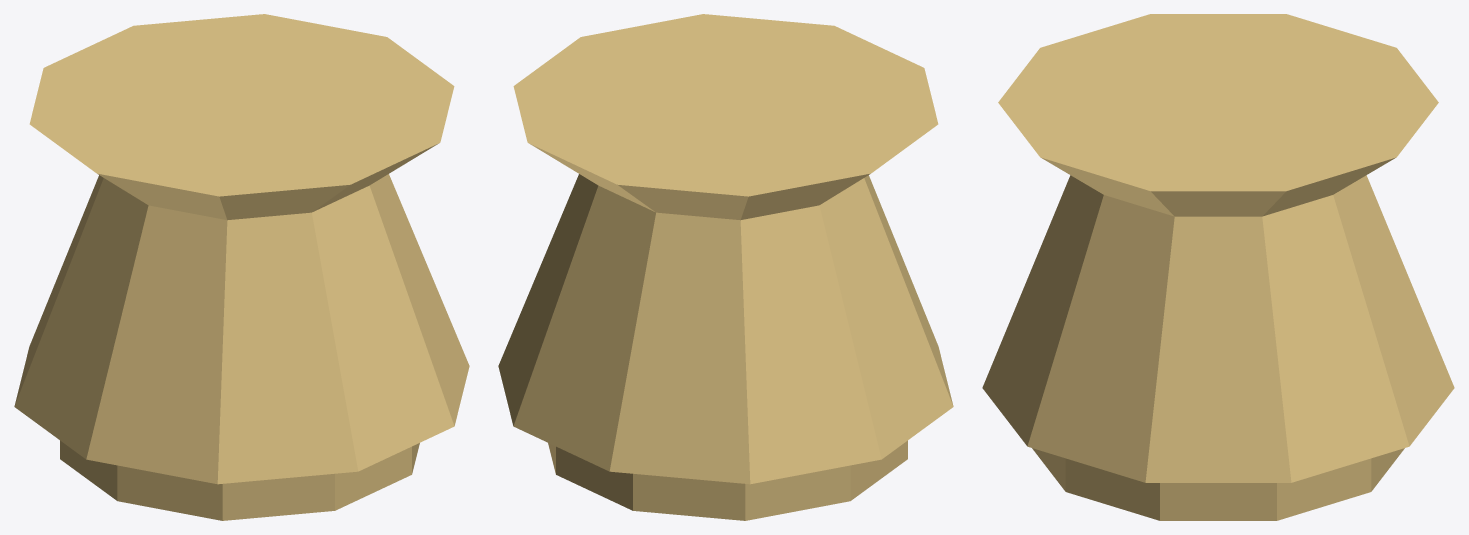
The model's file is SM_Spittoon.glb.
The picture shows the model from 3 angles, left to right: view 1: azimuth 30°, elevation 25°; view 2: azimuth 150°, elevation 25°; view 3: azimuth 270°, elevation 25°; orthographic projection.
Visible parts, largest first — view 1: SM_Spittoon; view 2: SM_Spittoon; view 3: SM_Spittoon.
Part boxes in pixels (x1,y1,x2,y2): SM_Spittoon: (14, 14, 469, 520); SM_Spittoon: (498, 14, 953, 520); SM_Spittoon: (982, 14, 1454, 520).
Bounding box in the file's own units: 0.2853 × 0.24 × 0.3.
